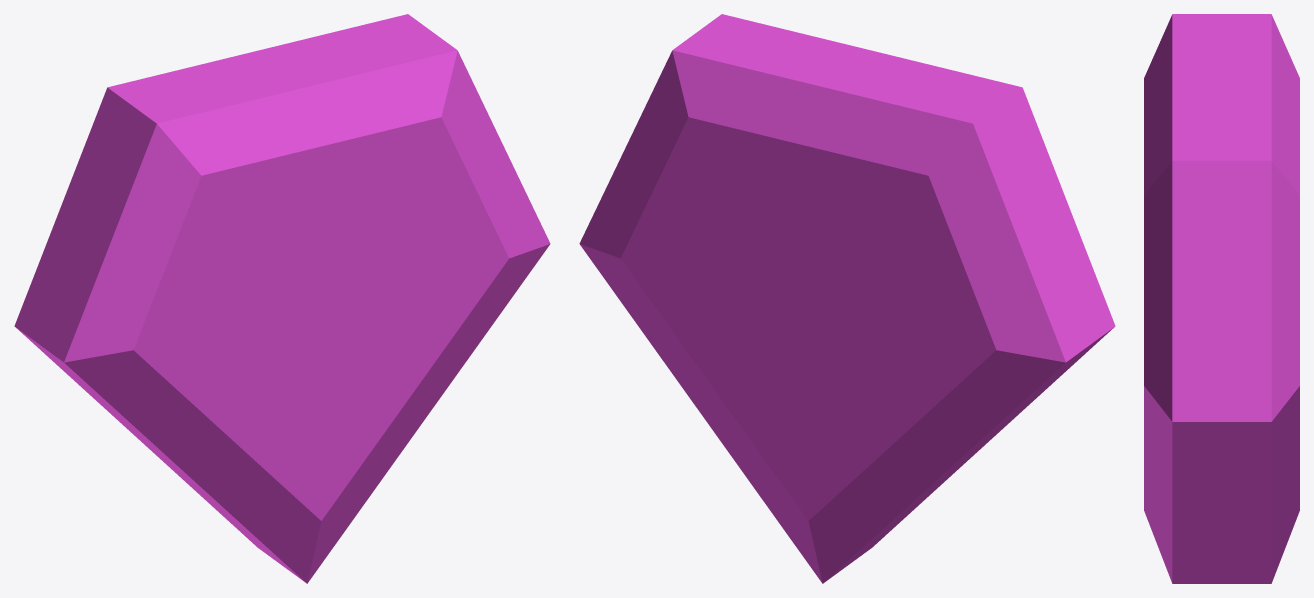
Rendered from pembeTas.fbx.
The picture shows the model from 3 angles, left to right: view 1: azimuth 30°, elevation 25°; view 2: azimuth 150°, elevation 25°; view 3: azimuth 270°, elevation 25°; orthographic projection.
Visible parts, largest first — view 1: pembeTas; view 2: pembeTas; view 3: pembeTas.
Boxes of the visible parts, <box> form: pembeTas: <box>14,14,550,583</box>; pembeTas: <box>579,14,1115,583</box>; pembeTas: <box>1144,14,1299,583</box>.
Bounding box in the file's own units: 190 × 186 × 52.74.
